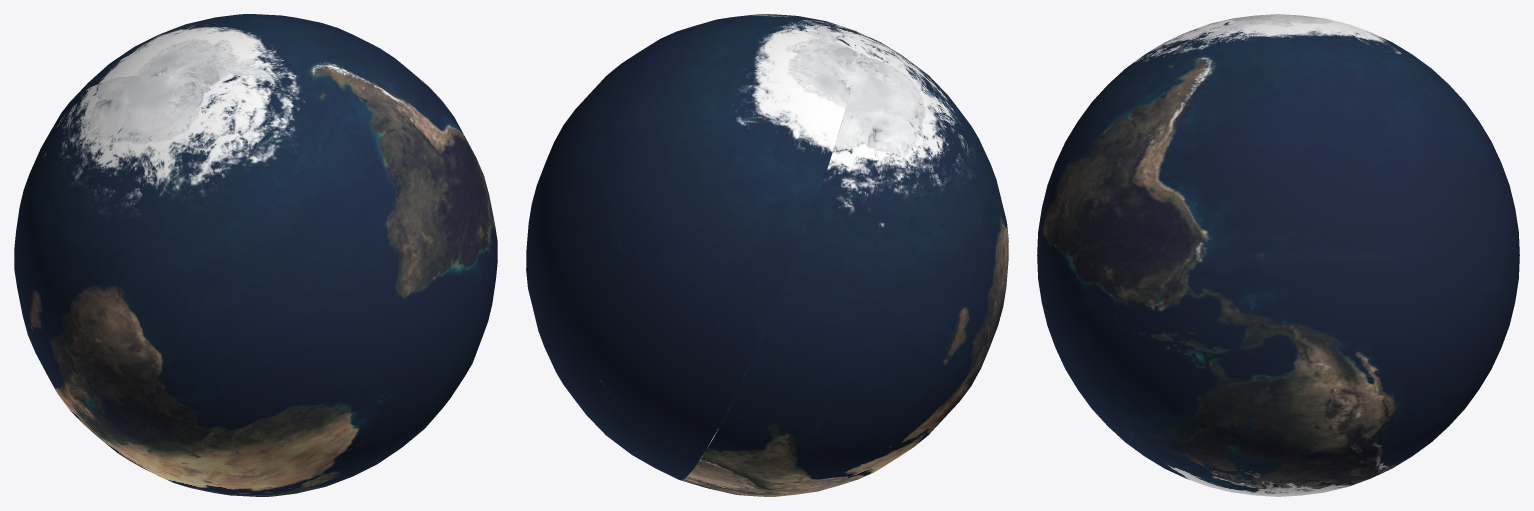
File: Earth.fbx
3 renders of one model, left to right at view 1: azimuth 30°, elevation 25°; view 2: azimuth 150°, elevation 25°; view 3: azimuth 270°, elevation 25°, orthographic.
Visible parts, largest first — view 1: Plane; view 2: Plane; view 3: Plane.
Part boxes in pixels (x1=…): Plane: x1=14, y1=14, x2=497, y2=496; Plane: x1=526, y1=14, x2=1008, y2=496; Plane: x1=1037, y1=14, x2=1519, y2=496.
Size of the model in its own units: 5.44 by 5.44 by 5.44.
